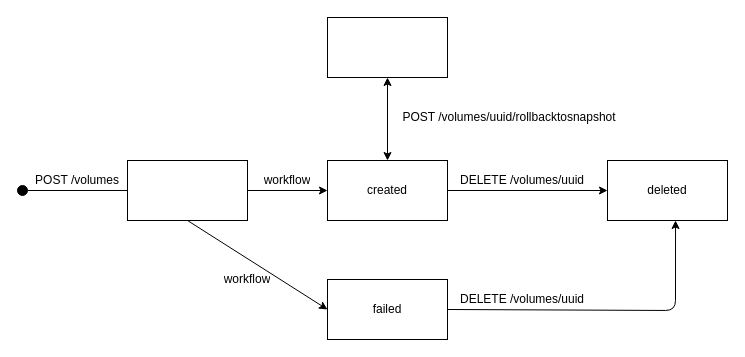
The diagram is 745 pixels wide and 357 high, and some of its shapes have lost their labels. The centre of each missing label's shape, as x and y in pixels:
"creating" goes at point 187,190.
"rolling_back" goes at point 387,47.
